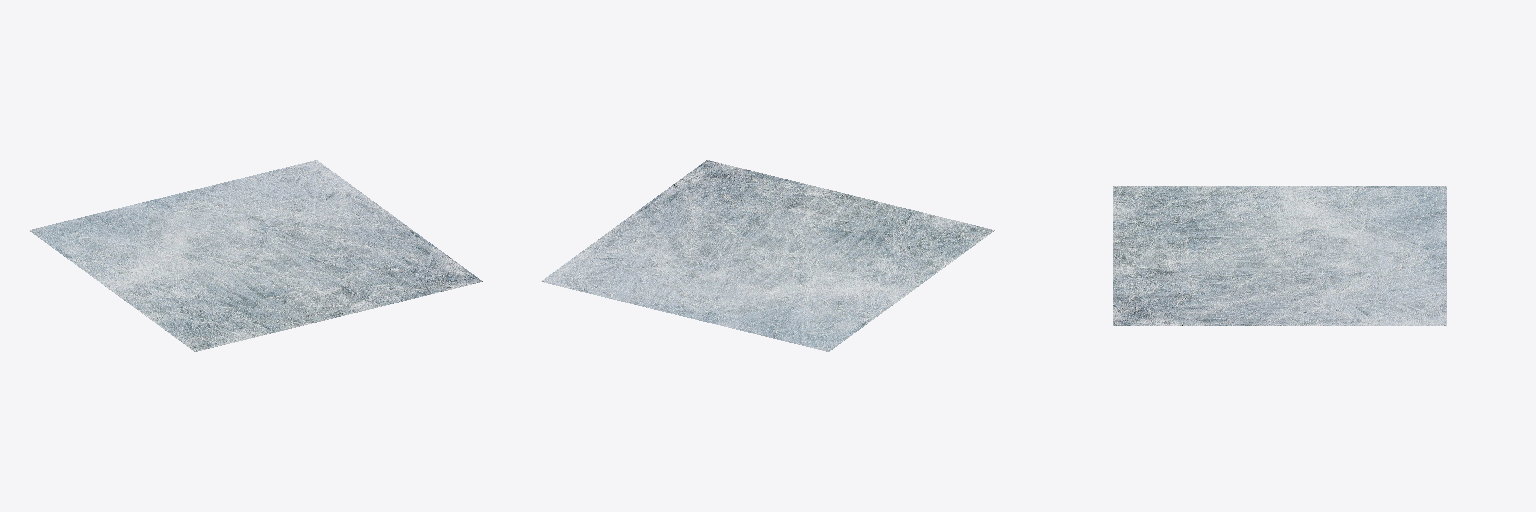
3 views of the same model, side by side, from view 1: azimuth 30°, elevation 25°; view 2: azimuth 150°, elevation 25°; view 3: azimuth 270°, elevation 25° (orthographic).
Parts seen in each view (by area): view 1: Plane; view 2: Plane; view 3: Plane.
Boxes of the visible parts, <box> form: Plane: <box>29,160,482,351</box>; Plane: <box>541,160,994,351</box>; Plane: <box>1113,186,1446,325</box>.
Bounding box in the file's own units: 16.1 × 0 × 16.1.
Materials: 1 (1 with a texture image).